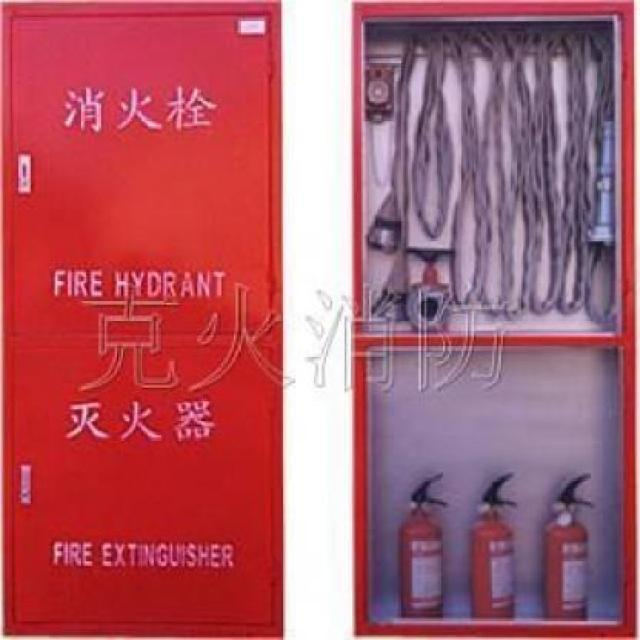firehydrant: (346, 0, 640, 640), (0, 0, 288, 640)
